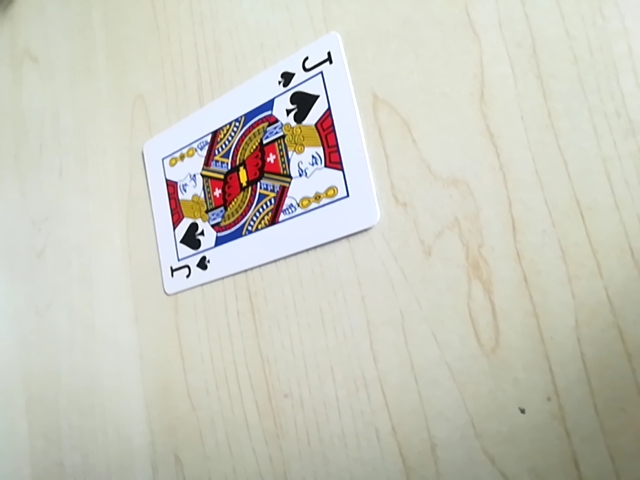ht j: (275, 46, 338, 93), (160, 247, 215, 289)
